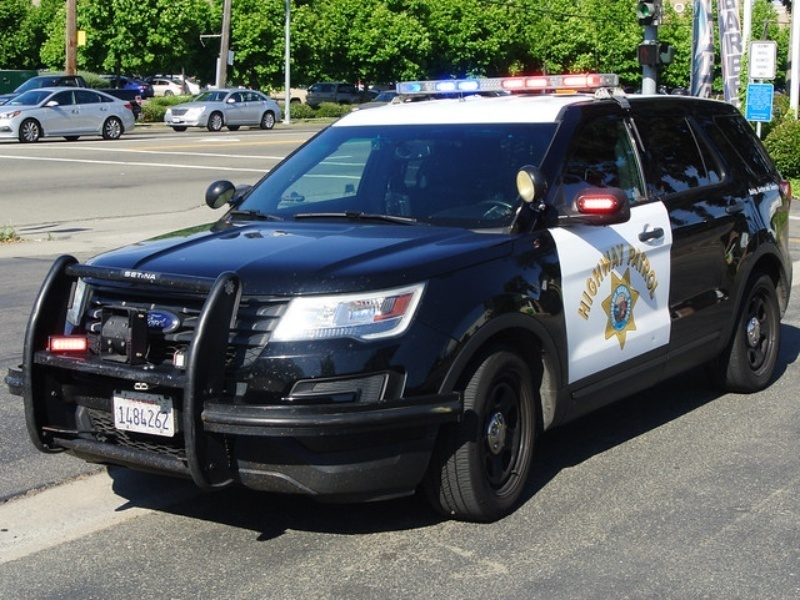normalcar: (158, 81, 302, 136)
policecar: (65, 132, 783, 579)
